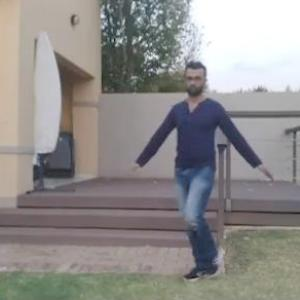land: (140, 64, 273, 282)
